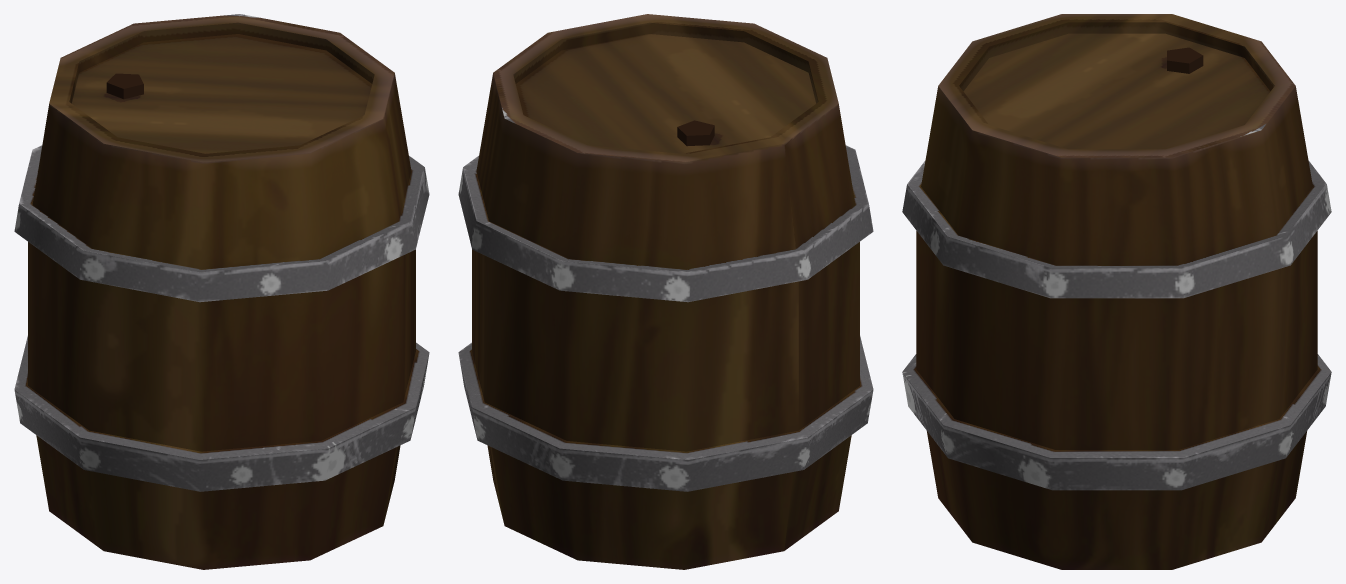
The model's file is Tank.fbx.
3 renders of one model, left to right at view 1: azimuth 30°, elevation 25°; view 2: azimuth 150°, elevation 25°; view 3: azimuth 270°, elevation 25°, orthographic.
Visible parts, largest first — view 1: Cylinder.010; view 2: Cylinder.010; view 3: Cylinder.010.
Boxes of the visible parts, x1,y1,x2,y2 form: Cylinder.010: (14, 14, 429, 569); Cylinder.010: (458, 14, 873, 569); Cylinder.010: (902, 14, 1331, 569).
Bounding box in the file's own units: 89.97 × 100 × 94.6.
1 material, 1 textured.
